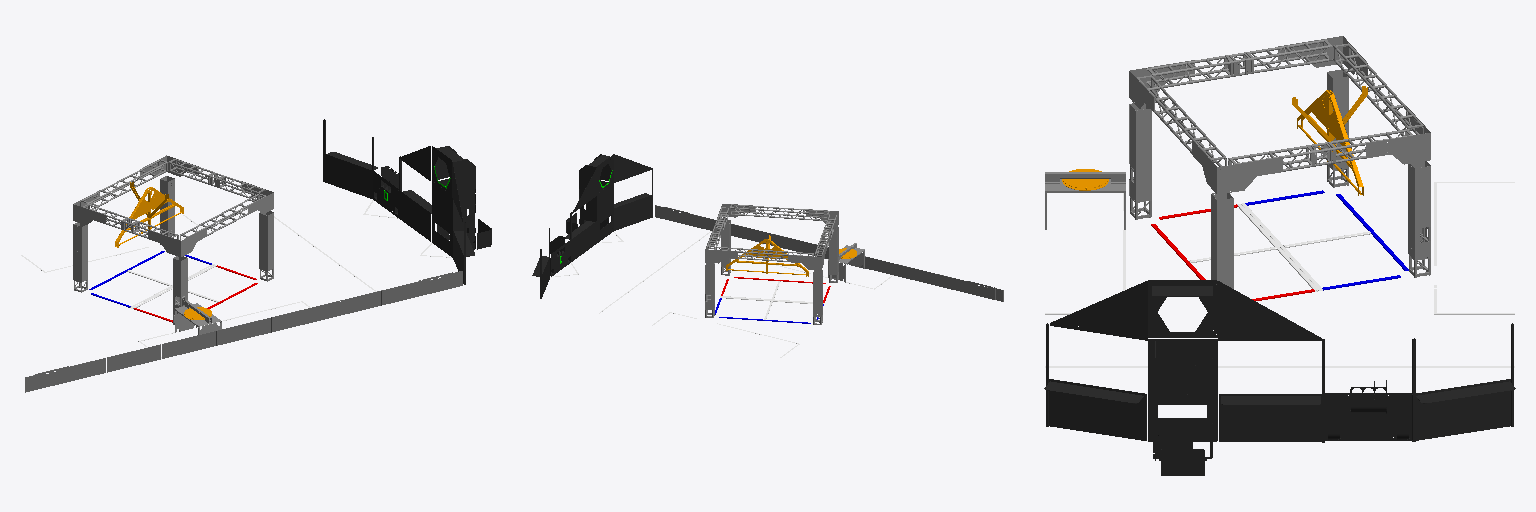
URDF robot description (field_2020):
<?xml version="1.0" encoding="utf-8"?>
<!-- This URDF was automatically created by SolidWorks to URDF Exporter! Originally created by [author] ([email redacted]) 
     Commit Version: 1.5.1-0-g916b5db  Build Version: 1.5.7152.31018
     For more information, please see http://wiki.ros.org/sw_urdf_exporter -->
<robot name="field_2020">
	<link name="field_link"/>
  <link
    name="field_origin">
    <inertial>
      <origin
        xyz="0 0 0"
        rpy="0 0 0" />
      <mass
        value="6.3939" />
      <inertia
        ixx="1"
        ixy="1"
        ixz="1"
        iyy="1"
        iyz="1"
        izz="1" />
    </inertial>
    <visual>
      <origin
        xyz="0 0 0"
        rpy="0 0 0" />
      <geometry>
        <mesh
          filename="package://field_2020_description/meshes/field_origin.STL" />
      </geometry>
      <material
        name="">
        <color
          rgba="1 1 1 1" />
      </material>
    </visual>
    <collision>
      <origin
        xyz="0 0 0"
        rpy="0 0 0" />
      <geometry>
        <mesh
          filename="package://field_2020_description/meshes/field_origin.STL" />
      </geometry>
    </collision>
  </link>
	<joint
    name="link_to_origin"
    type="fixed">
    <origin
      xyz="0 0 0"
      rpy="0 0 1.5708" />
    <parent
      link="field_link" />
    <child
      link="field_origin" />
    <axis
      xyz="0 0 0" />
  </joint>

  <link
    name="shield_generator">
    <inertial>
      <origin
        xyz="-2 1.3 -2"
        rpy="0 0 0" />
      <mass
        value="73.308" />
      <inertia
        ixx="1"
        ixy="1"
        ixz="1"
        iyy="1"
        iyz="1"
        izz="1" />
    </inertial>
    <visual>
      <origin
        xyz="-2 1.3 -2"
        rpy="0 0 0" />
      <geometry>
        <mesh
          filename="package://field_2020_description/meshes/shield_generator.STL" />
      </geometry>
      <material
        name="">
        <color
          rgba="0.6 0.6 0.6 1" />
      </material>
    </visual>
    <collision>
      <origin
        xyz="-2 1.3 -2"
        rpy="0 0 0" />
      <geometry>
        <mesh
          filename="package://field_2020_description/meshes/shield_generator.STL" />
      </geometry>
    </collision>
  </link>
  <joint
    name="origin_to_shield"
    type="fixed">
    <origin
      xyz="0 0 0"
      rpy="1.5708 0 1.9373" />
    <parent
      link="field_origin" />
    <child
      link="shield_generator" />
    <axis
      xyz="0 0 0" />
  </joint>

  <link
    name="generator_switch">
    <inertial>
      <origin
        xyz="0 -0.67 0.13"
        rpy="0 0 0" />
      <mass
        value="10.747" />
      <inertia
        ixx="1"
        ixy="1"
        ixz="1"
        iyy="1"
        iyz="1"
        izz="1" />
    </inertial>
    <visual>
      <origin
        xyz="0 0 0"
        rpy="0 0 0" />
      <geometry>
        <mesh
          filename="package://field_2020_description/meshes/generator_switch.STL" />
      </geometry>
      <material
        name="">
        <color
          rgba="1 0.65 0 1" />
      </material>
    </visual>
    <collision>
      <origin
        xyz="0 0 0"
        rpy="0 0 0" />
      <geometry>
        <mesh
          filename="package://field_2020_description/meshes/generator_switch.STL" />
      </geometry>
    </collision>
  </link>
  <joint
    name="shield_generator_to_switch"
    type="fixed">
    <origin
      xyz="-0.038100000000078 2.8199999999998 0.791837932304479"
      rpy="0 0 0" />
    <parent
      link="shield_generator" />
    <child
      link="generator_switch" />
    <axis
      xyz="0 0 1" />
  </joint>
  <link
    name="alliance_wall">
    <inertial>
      <origin
        xyz="0.94 1 -4.73"
        rpy="0 0 0" />
      <mass
        value="96.516" />
      <inertia
        ixx="1"
        ixy="1"
        ixz="1"
        iyy="1"
        iyz="1"
        izz="1" />
    </inertial>
    <visual>
      <origin
        xyz="0 0 0"
        rpy="0 0 0" />
      <geometry>
        <mesh
          filename="package://field_2020_description/meshes/alliance_wall.STL" />
      </geometry>
      <material
        name="">
        <color
          rgba="0.2 0.2 0.2 1" />
      </material>
    </visual>
    <collision>
      <origin
        xyz="0 0 0"
        rpy="0 0 0" />
      <geometry>
        <mesh
          filename="package://field_2020_description/meshes/alliance_wall.STL" />
      </geometry>
    </collision>
  </link>
  <joint
    name="origin_to_wall"
    type="fixed">
    <origin
      xyz="4.05377805746124 -7.36218144785001 0"
      rpy="1.5707963267949 0 1.91986217719377" />
    <parent
      link="field_origin" />
    <child
      link="alliance_wall" />
    <axis
      xyz="0 0 0" />
  </joint>
  <link
    name="reflective_tapes">
    <inertial>
      <origin
        xyz="0.433 -0.951 0.0016"
        rpy="0 0 0" />
      <mass
        value="0.34178" />
      <inertia
        ixx="1"
        ixy="1"
        ixz="1"
        iyy="1"
        iyz="1"
        izz="1" />
    </inertial>
    <visual>
      <origin
        xyz="0 0 0"
        rpy="0 0 0" />
      <geometry>
        <mesh
          filename="package://field_2020_description/meshes/reflective_tapes.STL" />
      </geometry>
      <material
        name="">
        <color
          rgba="0 1 0 1" />
      </material>
    </visual>
    <collision>
      <origin
        xyz="0 0 0"
        rpy="0 0 0" />
      <geometry>
        <mesh
          filename="package://field_2020_description/meshes/reflective_tapes.STL" />
      </geometry>
    </collision>
  </link>
  <joint
    name="wall_to_reflective_tapes"
    type="fixed">
    <origin
      xyz="1.21328331594503 2.46857332088113 -5.16835970970136"
      rpy="-1.17293321274731 0.489116666389105 -1.37583904498449" />
    <parent
      link="alliance_wall" />
    <child
      link="reflective_tapes" />
    <axis
      xyz="0 0 0" />
  </joint>
  <link
    name="trench_pass">
    <inertial>
      <origin
        xyz="0.7047 -0.1072 -0.3805"
        rpy="0 0 0" />
      <mass
        value="13.144" />
      <inertia
        ixx="1"
        ixy="1"
        ixz="1"
        iyy="1"
        iyz="1"
        izz="1" />
    </inertial>
    <visual>
      <origin
        xyz="0 0 0"
        rpy="0 0 0" />
      <geometry>
        <mesh
          filename="package://field_2020_description/meshes/trench_pass.STL" />
      </geometry>
      <material
        name="">
        <color
          rgba="0.6 0.6 0.6 1" />
      </material>
    </visual>
    <collision>
      <origin
        xyz="0 0 0"
        rpy="0 0 0" />
      <geometry>
        <mesh
          filename="package://field_2020_description/meshes/trench_pass.STL" />
      </geometry>
    </collision>
  </link>
  <joint
    name="origin_to_trench"
    type="fixed">
    <origin
      xyz="-4.10604347347494 0.76253340000001 0.74929999999978"
      rpy="1.5707963267949 0 0" />
    <parent
      link="field_origin" />
    <child
      link="trench_pass" />
    <axis
      xyz="0 0 0" />
  </joint>
  <link
    name="control_panel">
    <inertial>
      <origin
        xyz="0 0.025 0"
        rpy="0 0 0" />
      <mass
        value="6.6013" />
      <inertia
        ixx="1"
        ixy="1"
        ixz="1"
        iyy="1"
        iyz="1"
        izz="1" />
    </inertial>
    <visual>
      <origin
        xyz="0 0 0"
        rpy="0 0 0" />
      <geometry>
        <mesh
          filename="package://field_2020_description/meshes/control_panel.STL" />
      </geometry>
      <material
        name="">
        <color
          rgba="1 0.65 0 1" />
      </material>
    </visual>
    <collision>
      <origin
        xyz="0 0 0"
        rpy="0 0 0" />
      <geometry>
        <mesh
          filename="package://field_2020_description/meshes/control_panel.STL" />
      </geometry>
    </collision>
  </link>
  <joint
    name="trench_to_control_panel"
    type="fixed">
    <origin
      xyz="0.70485000000005 0.0143002000000783 -0.381640079999943"
      rpy="0 -0.258746013027073 0" />
    <parent
      link="trench_pass" />
    <child
      link="control_panel" />
    <axis
      xyz="0 1 0" />
  </joint>
  <link
    name="red_bumps">
    <inertial>
      <origin
        xyz="0.841 0.013 -0.429"
        rpy="0 0 0" />
      <mass
        value="3.6706" />
      <inertia
        ixx="1"
        ixy="1"
        ixz="1"
        iyy="1"
        iyz="1"
        izz="1" />
    </inertial>
    <visual>
      <origin
        xyz="0 0 0"
        rpy="0 0 0" />
      <geometry>
        <mesh
          filename="package://field_2020_description/meshes/red_bumps.STL" />
      </geometry>
      <material
        name="">
        <color
          rgba="1 0 0 1" />
      </material>
    </visual>
    <collision>
      <origin
        xyz="0 0 0"
        rpy="0 0 0" />
      <geometry>
        <mesh
          filename="package://field_2020_description/meshes/red_bumps.STL" />
      </geometry>
    </collision>
  </link>
  <joint
    name="origin_to_red_bumps"
    type="fixed">
    <origin
      xyz="-1.91965602804253 0.164619781045379 0.00158750000004459"
      rpy="1.5707963267949 0 -1.2042771838761" />
    <parent
      link="field_origin" />
    <child
      link="red_bumps" />
    <axis
      xyz="0 0 0" />
  </joint>
  <link
    name="blue_bumps">
    <inertial>
      <origin
        xyz="-0.841 0.013 -0.429"
        rpy="0 0 0" />
      <mass
        value="3.6706" />
      <inertia
        ixx="1"
        ixy="1"
        ixz="1"
        iyy="1"
        iyz="1"
        izz="1" />
    </inertial>
    <visual>
      <origin
        xyz="0 0 0"
        rpy="0 0 0" />
      <geometry>
        <mesh
          filename="package://field_2020_description/meshes/blue_bumps.STL" />
      </geometry>
      <material
        name="">
        <color
          rgba="0 0 1 1" />
      </material>
    </visual>
    <collision>
      <origin
        xyz="0 0 0"
        rpy="0 0 0" />
      <geometry>
        <mesh
          filename="package://field_2020_description/meshes/blue_bumps.STL" />
      </geometry>
    </collision>
  </link>
  <joint
    name="origin_to_blue_bumps"
    type="fixed">
    <origin
      xyz="1.31690456888337 1.40701899141796 0.00158749999997582"
      rpy="1.57079632679498 0 1.9373154697137" />
    <parent
      link="field_origin" />
    <child
      link="blue_bumps" />
    <axis
      xyz="0 0 0" />
  </joint>
  <link
    name="zone_perimeters">
    <inertial>
      <origin
        xyz="5.341 0 4.107"
        rpy="0 0 0" />
      <mass
        value="2.1766" />
      <inertia
        ixx="1"
        ixy="1"
        ixz="1"
        iyy="1"
        iyz="1"
        izz="1" />
    </inertial>
    <visual>
      <origin
        xyz="0 0 0"
        rpy="0 0 0" />
      <geometry>
        <mesh
          filename="package://field_2020_description/meshes/zone_perimeters.STL" />
      </geometry>
      <material
        name="">
        <color
          rgba="1 1 1 1" />
      </material>
    </visual>
    <collision>
      <origin
        xyz="0 0 0"
        rpy="0 0 0" />
      <geometry>
        <mesh
          filename="package://field_2020_description/meshes/zone_perimeters.STL" />
      </geometry>
    </collision>
  </link>
  <joint
    name="origin_to_zone_perimeters"
    type="fixed">
    <origin
      xyz="-4.10604347347495 2.7432 0"
      rpy="-1.5707963267949 0 -1.5707963267949" />
    <parent
      link="field_origin" />
    <child
      link="zone_perimeters" />
    <axis
      xyz="0 0 0" />
  </joint>
  <link
    name="field_barrier">
    <inertial>
      <origin
        xyz="-1.837 0.243 0.003"
        rpy="0 0 0" />
      <mass
        value="44.94" />
      <inertia
        ixx="1"
        ixy="1"
        ixz="1"
        iyy="1"
        iyz="1"
        izz="1" />
    </inertial>
    <visual>
      <origin
        xyz="0 0 0"
        rpy="0 0 0" />
      <geometry>
        <mesh
          filename="package://field_2020_description/meshes/field_barrier.STL" />
      </geometry>
      <material
        name="">
        <color
          rgba="0.5 0.5 0.5 1" />
      </material>
    </visual>
    <collision>
      <origin
        xyz="0 0 0"
        rpy="0 0 0" />
      <geometry>
        <mesh
          filename="package://field_2020_description/meshes/field_barrier.STL" />
      </geometry>
    </collision>
  </link>
  <joint
    name="origin_to_barrier"
    type="fixed">
    <origin
      xyz="-4.11239347347495 1.85988325 0"
      rpy="1.5707963267949 0 1.5707963267949" />
    <parent
      link="field_origin" />
    <child
      link="field_barrier" />
    <axis
      xyz="0 0 0" />
  </joint>
</robot>

--- Facts derived from the render (not from the file) ---
The picture shows the robot from 3 angles, left to right: view 1: azimuth 30°, elevation 25°; view 2: azimuth 150°, elevation 25°; view 3: azimuth 270°, elevation 25°; orthographic projection.
Robot: field_2020 — 12 links, 11 joints (11 fixed); root link field_link; default pose: all joints at 0.
Links seen in each view (by area): view 1: alliance_wall, shield_generator, field_barrier, generator_switch, trench_pass, zone_perimeters; view 2: alliance_wall, shield_generator, field_barrier, generator_switch; view 3: alliance_wall, shield_generator, generator_switch, zone_perimeters, trench_pass, field_origin, blue_bumps, red_bumps, control_panel.
Link boxes in pixels (x1,y1,x2,y2): alliance_wall: [323, 119, 491, 284]; shield_generator: [73, 155, 273, 324]; field_barrier: [25, 271, 462, 392]; generator_switch: [115, 182, 183, 247]; trench_pass: [175, 300, 221, 334]; zone_perimeters: [21, 200, 451, 357]; alliance_wall: [532, 154, 652, 298]; shield_generator: [705, 204, 838, 324]; field_barrier: [655, 205, 1003, 301]; generator_switch: [726, 235, 808, 276]; alliance_wall: [1044, 280, 1515, 475]; shield_generator: [1129, 36, 1430, 288]; generator_switch: [1292, 86, 1367, 195]; zone_perimeters: [1045, 182, 1514, 367]; trench_pass: [1045, 172, 1125, 229]; field_origin: [1189, 203, 1370, 291]; blue_bumps: [1245, 190, 1408, 290]; red_bumps: [1151, 204, 1314, 300]; control_panel: [1062, 169, 1108, 190].
Bounding box of the posed robot: 16.77 × 8.24 × 3.11 m (x, y, z).
Meshes: 11 distinct files referenced, 11 mesh visuals loaded (11 binary STL).